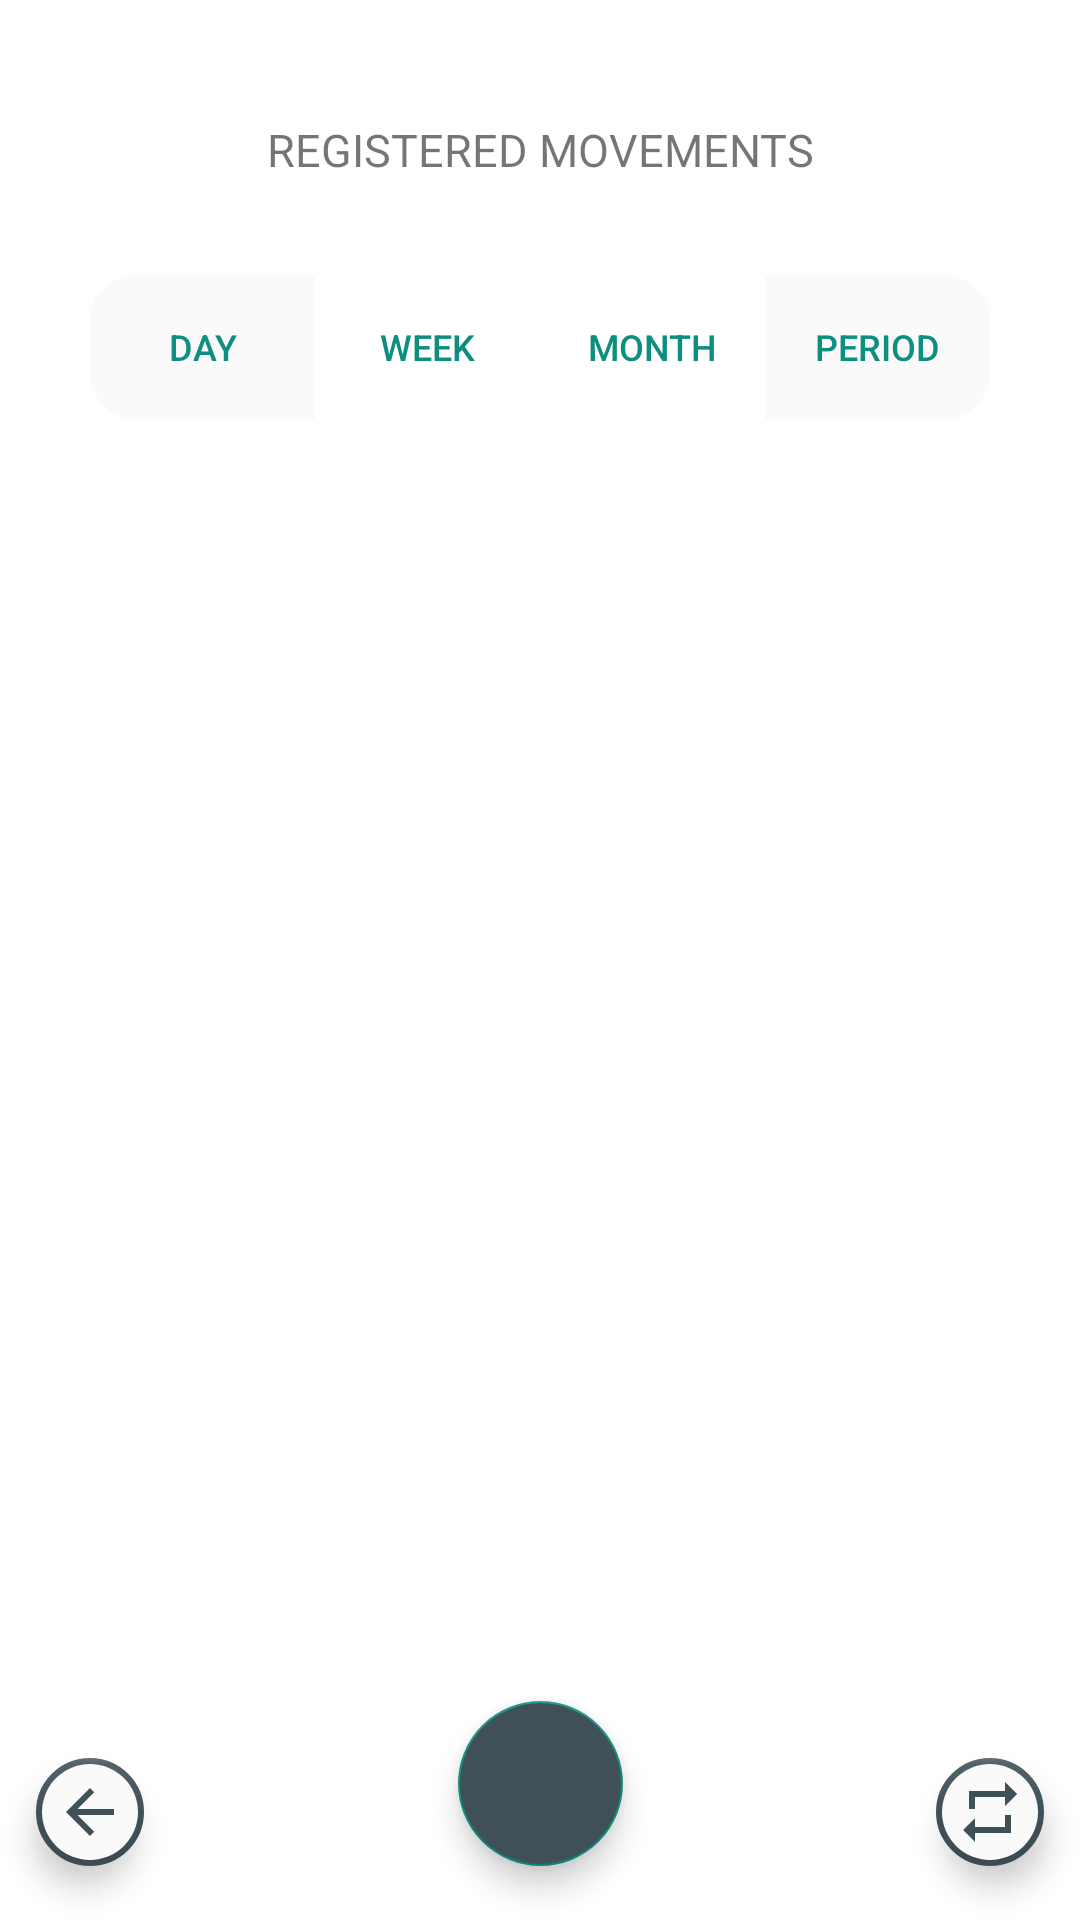

Where to tap for icons on this 1080w x 1920h app screen, as [x,y]:
Go back to previous screen: [90,1821]
Open periodic movements page: [990,1821]
